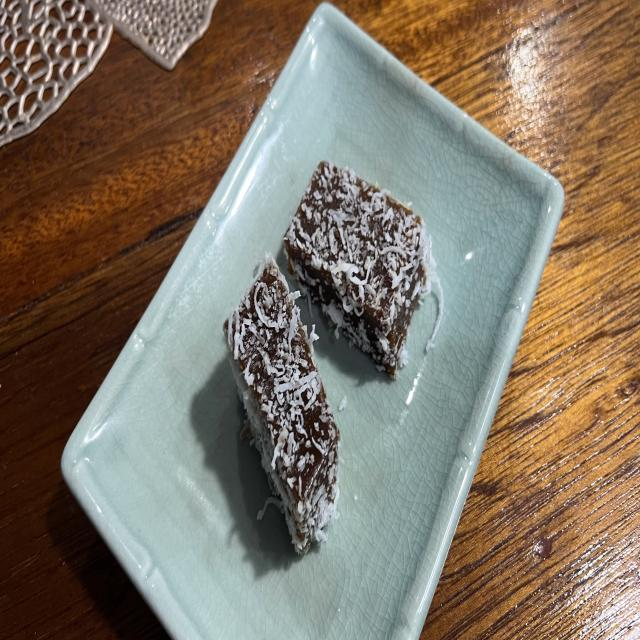kaswi: (284, 160, 444, 378), (224, 253, 340, 553)
